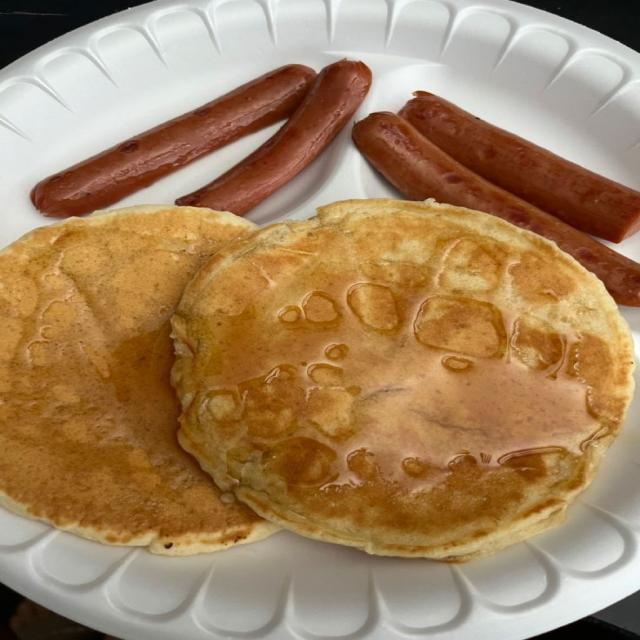pancake: (173, 200, 633, 561), (0, 206, 275, 554)
sausage: (352, 112, 639, 305), (31, 65, 315, 215), (399, 91, 639, 241), (177, 61, 371, 215)
